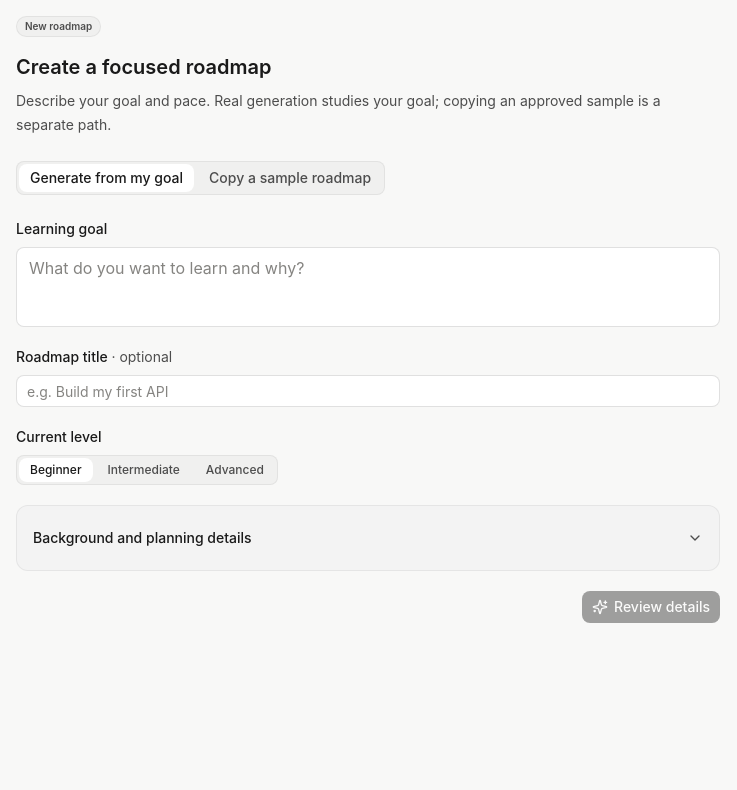
Test case: StudioGoalForm (LSI-021) › keeps the edited profile and submitted snapshot when submission fails
In the text box labelled "Learning goal": (368, 287) x1=16 y1=247 x2=720 y2=327, type "Learn to write reliable integration tests"
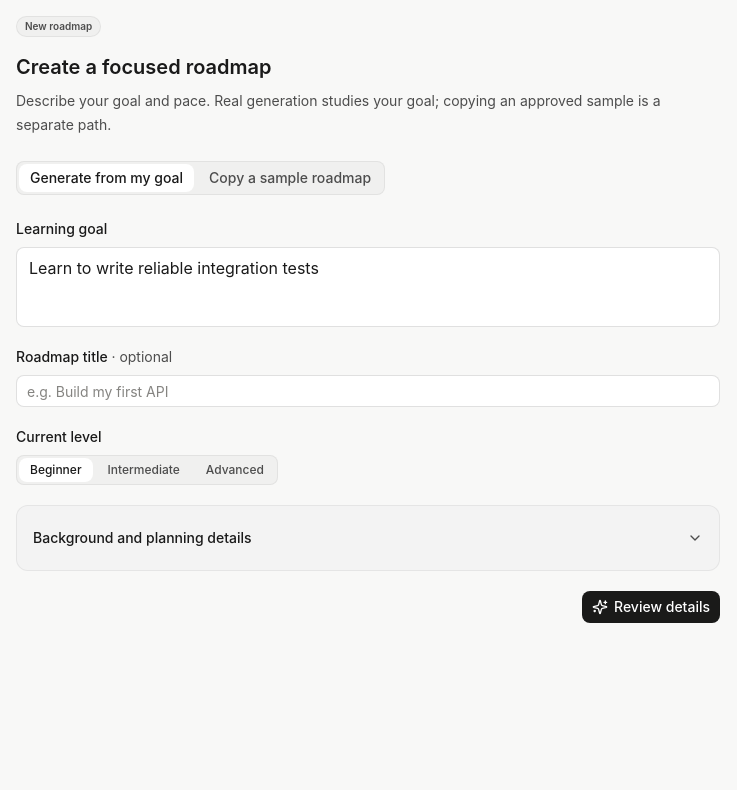
Click the button "Review details": (651, 607) x1=582 y1=591 x2=720 y2=623
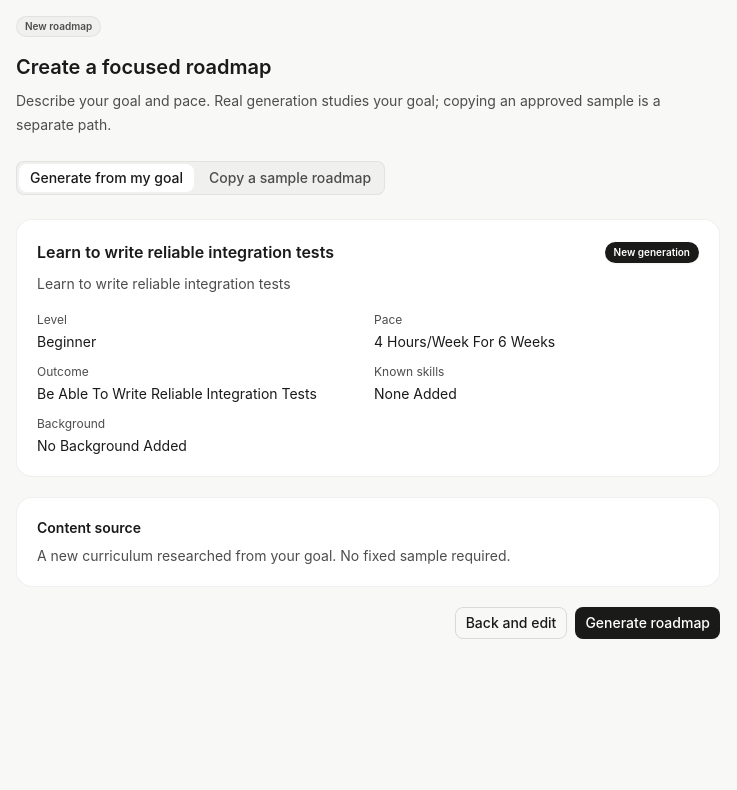
Click the button "Generate roadmap": (648, 623) x1=575 y1=607 x2=720 y2=639
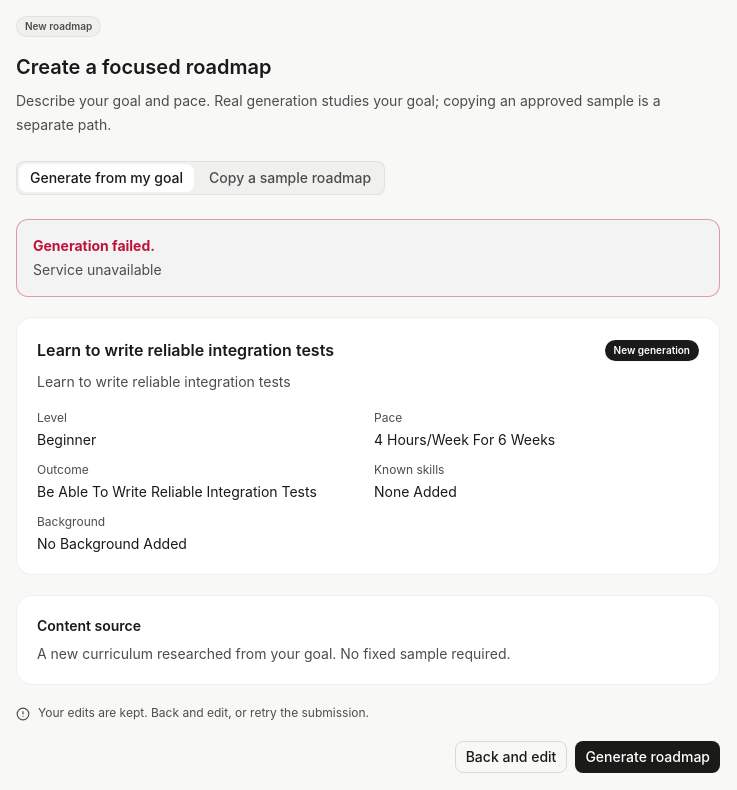
Now the text "Service unavailable" is shown, box x1=33 y1=261 x2=162 y2=278
Click the button "Back and edit": (511, 757) x1=455 y1=741 x2=567 y2=773
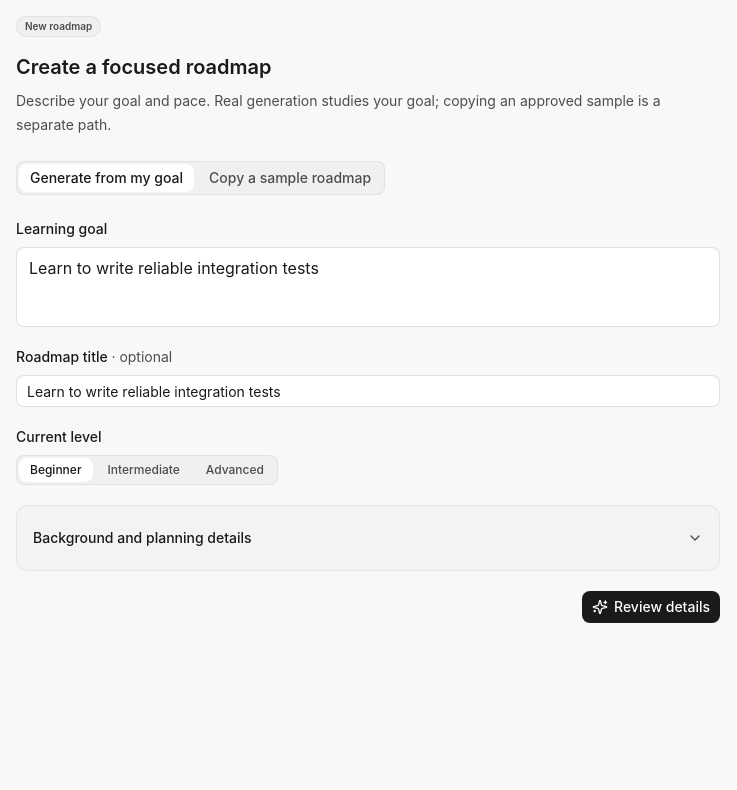
Now the text box labelled "Learning goal" holds "Learn to write reliable integration tests", box x1=16 y1=247 x2=720 y2=327
